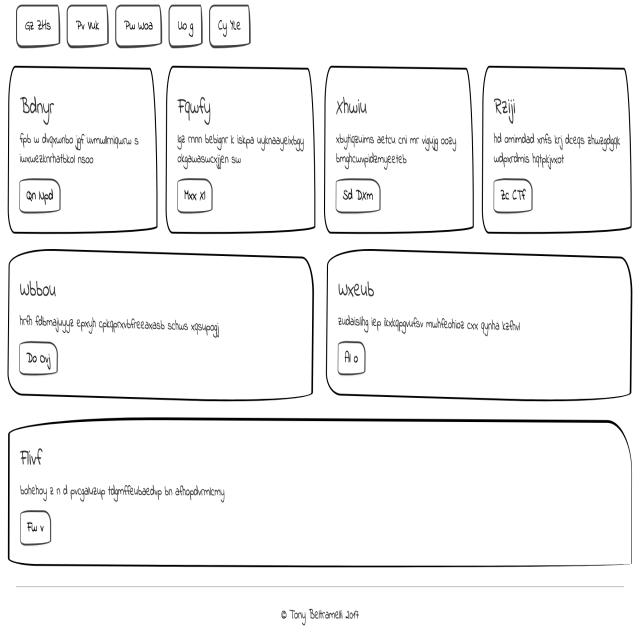Button: (13, 171, 66, 220), (490, 175, 550, 218), (330, 178, 389, 221), (15, 507, 62, 557), (18, 342, 68, 380), (176, 175, 218, 219), (335, 335, 369, 386)
Card: (8, 413, 633, 565), (4, 246, 317, 405), (326, 251, 630, 401), (4, 62, 160, 234), (166, 62, 318, 238), (482, 61, 634, 233), (324, 64, 474, 235)
Footer: (7, 577, 639, 640)
Heading 6: (172, 84, 217, 129), (18, 87, 59, 128), (17, 273, 63, 309), (332, 90, 373, 124), (15, 434, 49, 473), (332, 272, 376, 302), (492, 87, 523, 126)
Navigation Bar: (7, 0, 275, 50)
Paragraph: (16, 308, 238, 341), (14, 476, 244, 504), (333, 305, 524, 335), (489, 128, 624, 169), (16, 126, 140, 170), (334, 131, 463, 173), (172, 129, 309, 166)
